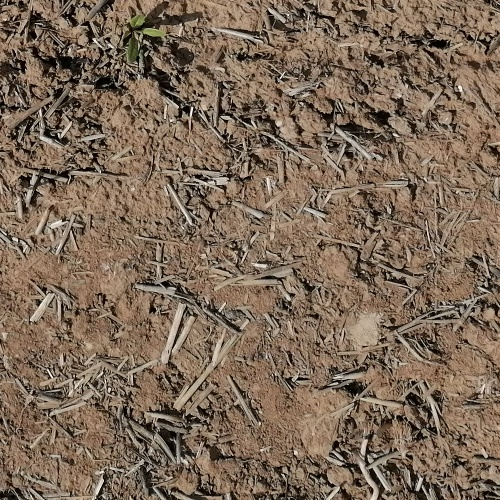beet: (124, 13, 161, 62)
